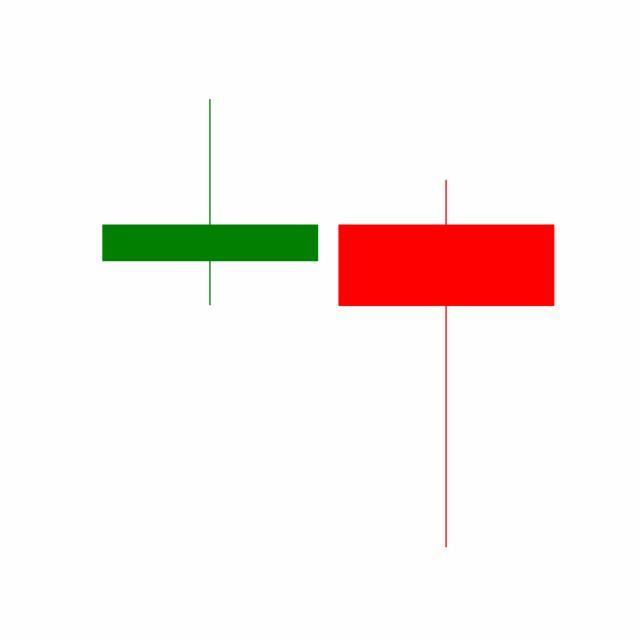Hammer: (328, 176, 566, 553)
